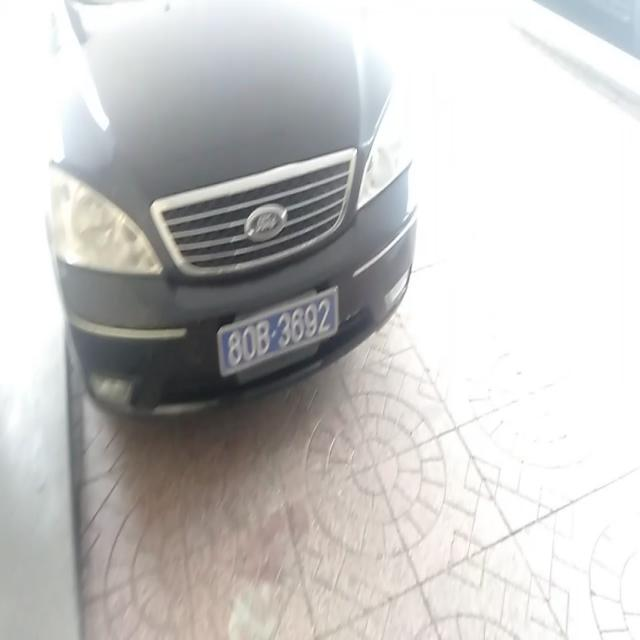bien_xanh: (220, 294, 342, 366)
